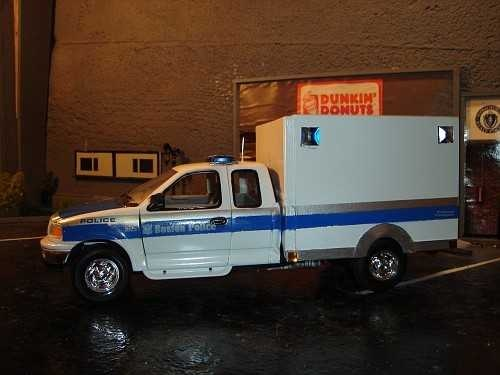Police Van: (27, 103, 479, 319)
